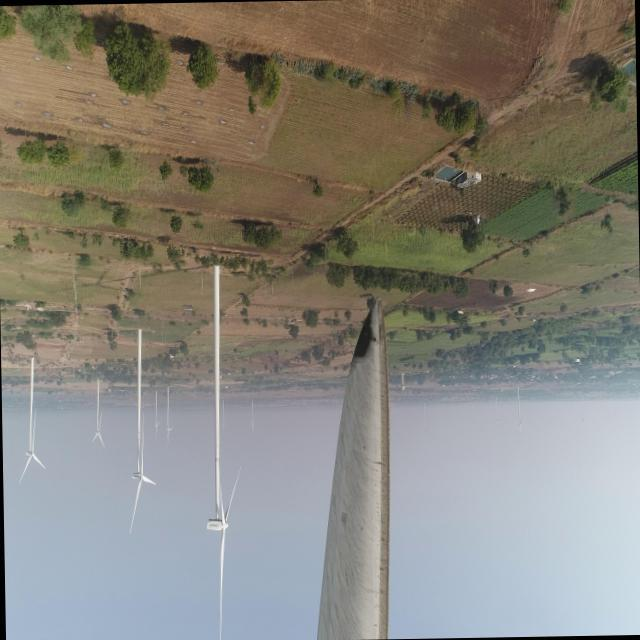Dirt: (318, 302, 391, 639)
Oil LEAKAGE: (350, 296, 382, 364)
